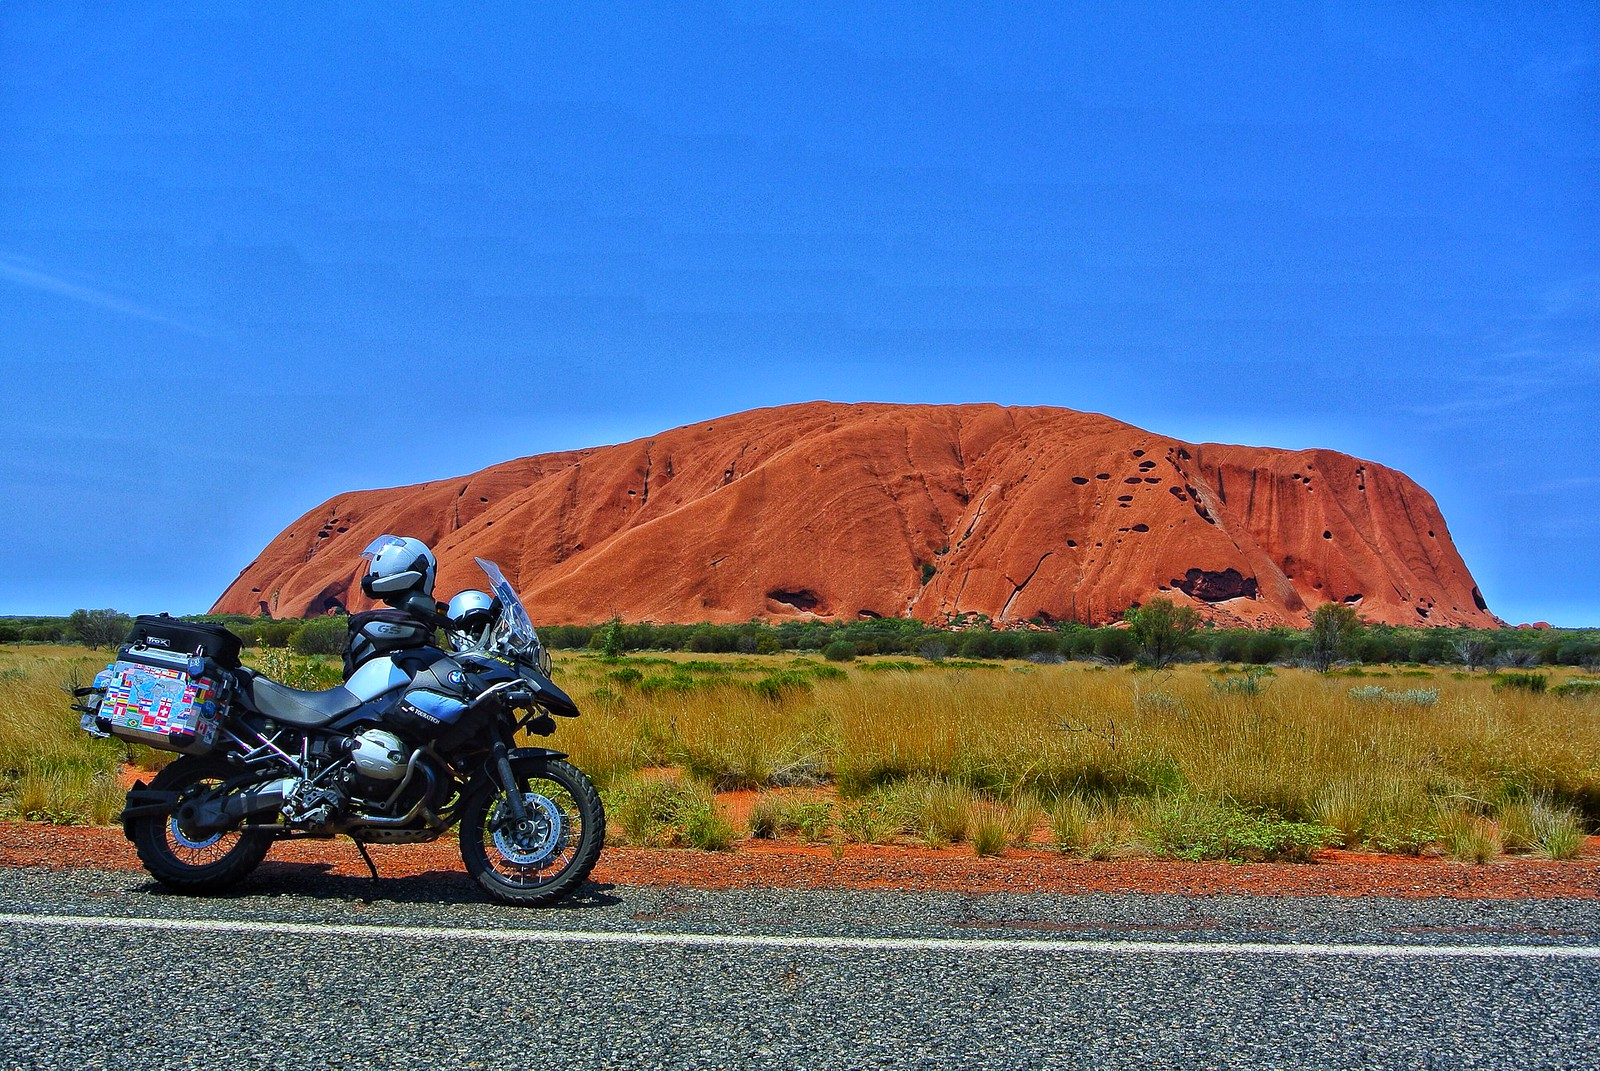motor bike: (102, 532, 617, 899)
